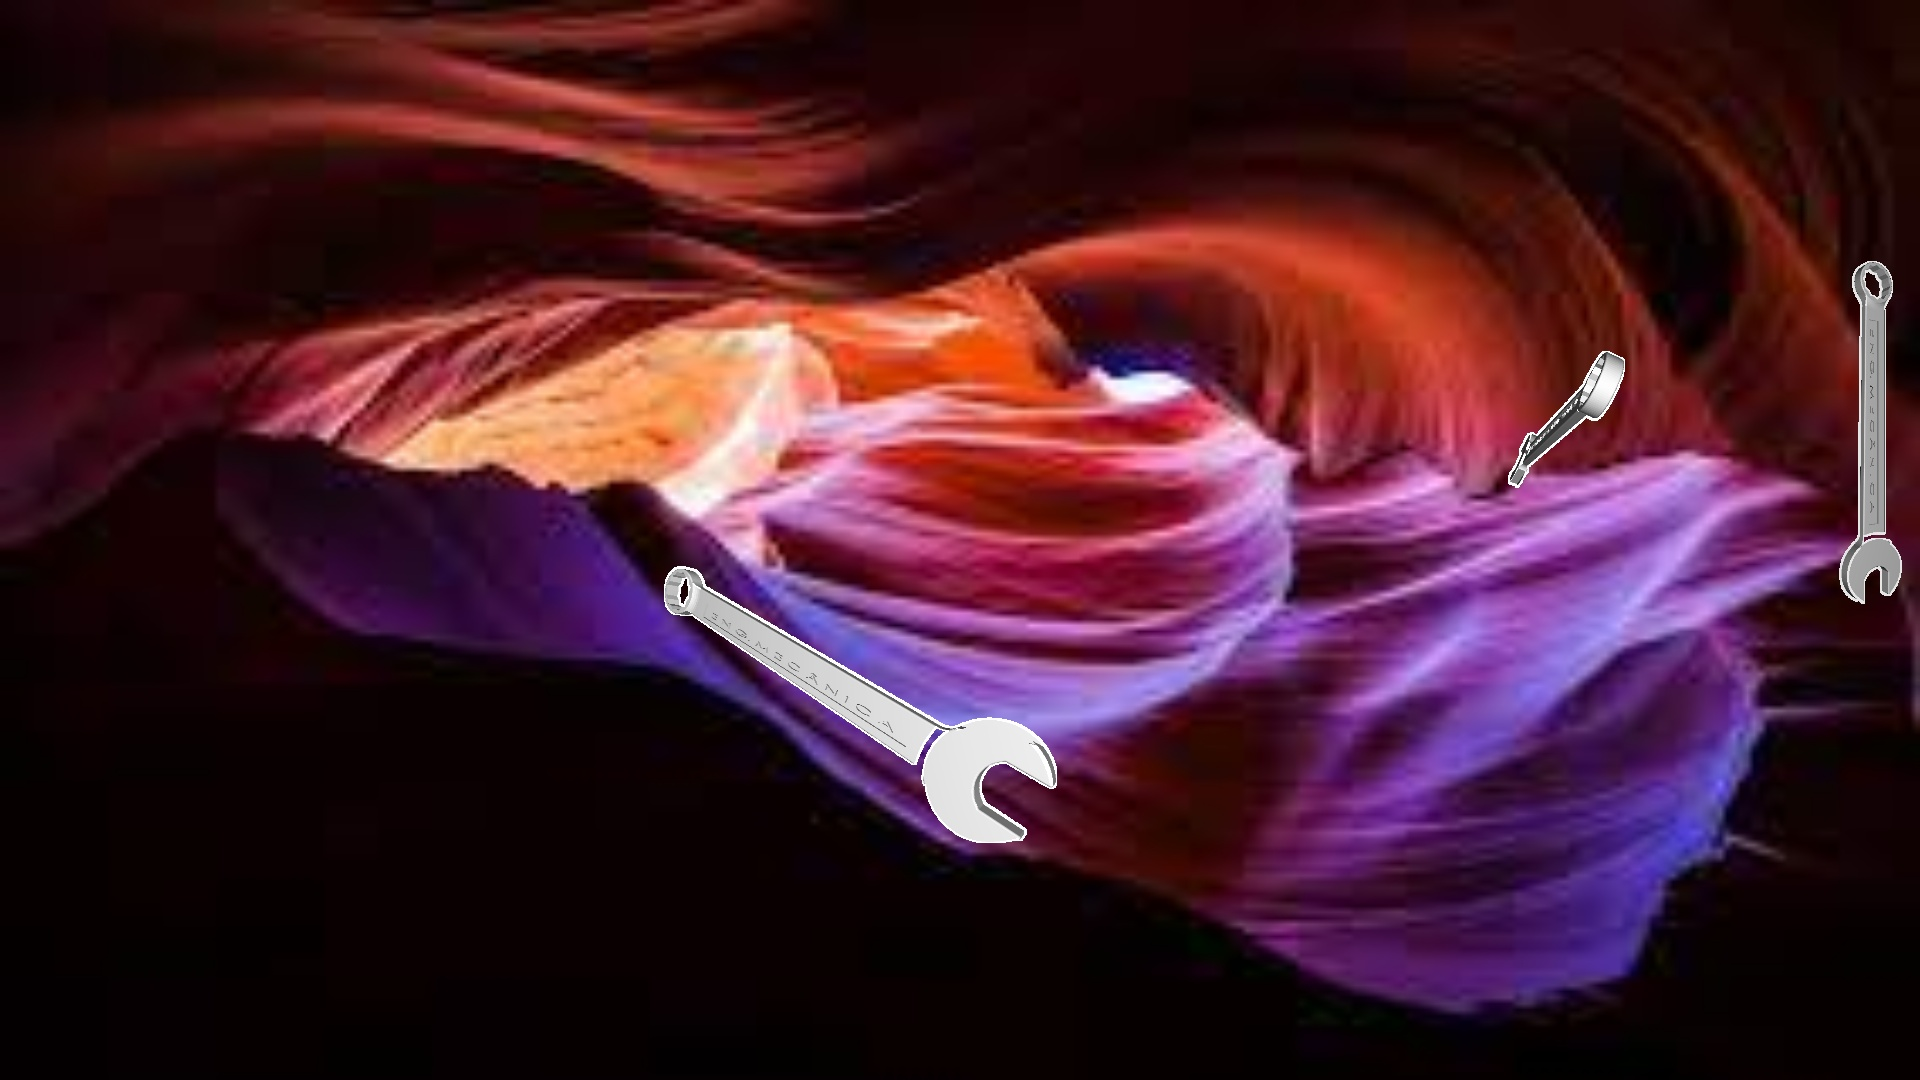Mixed Key: (665, 566, 1056, 843), (1840, 261, 1902, 603), (1509, 351, 1625, 487)
